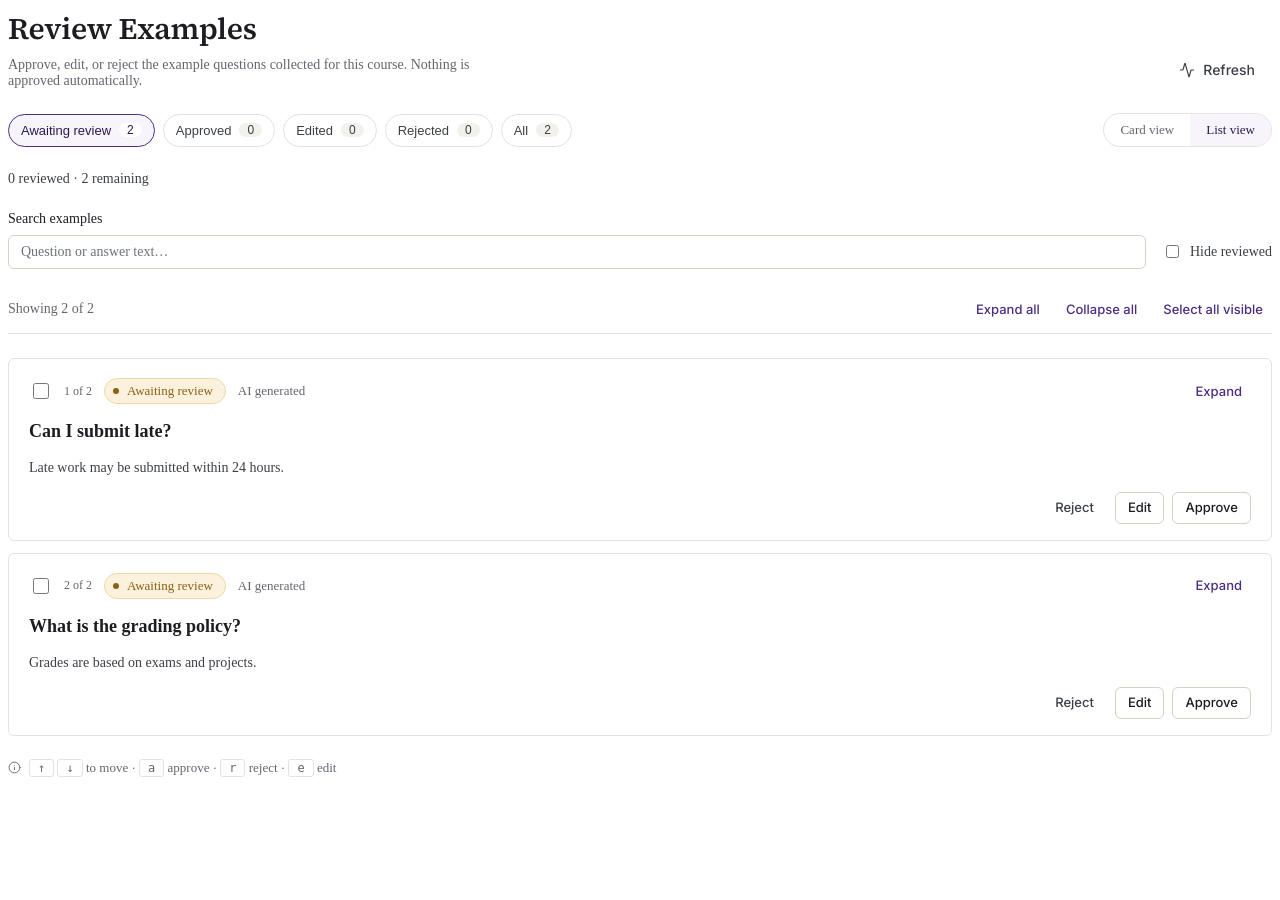
Scenario: ReviewExamplesPage › moves through the queue with the previous and next controls
Expected: the text "Can I submit late?" is shown, [29, 421, 172, 441]
Click the button "Card view" at (1147, 130), box [1104, 114, 1190, 146]
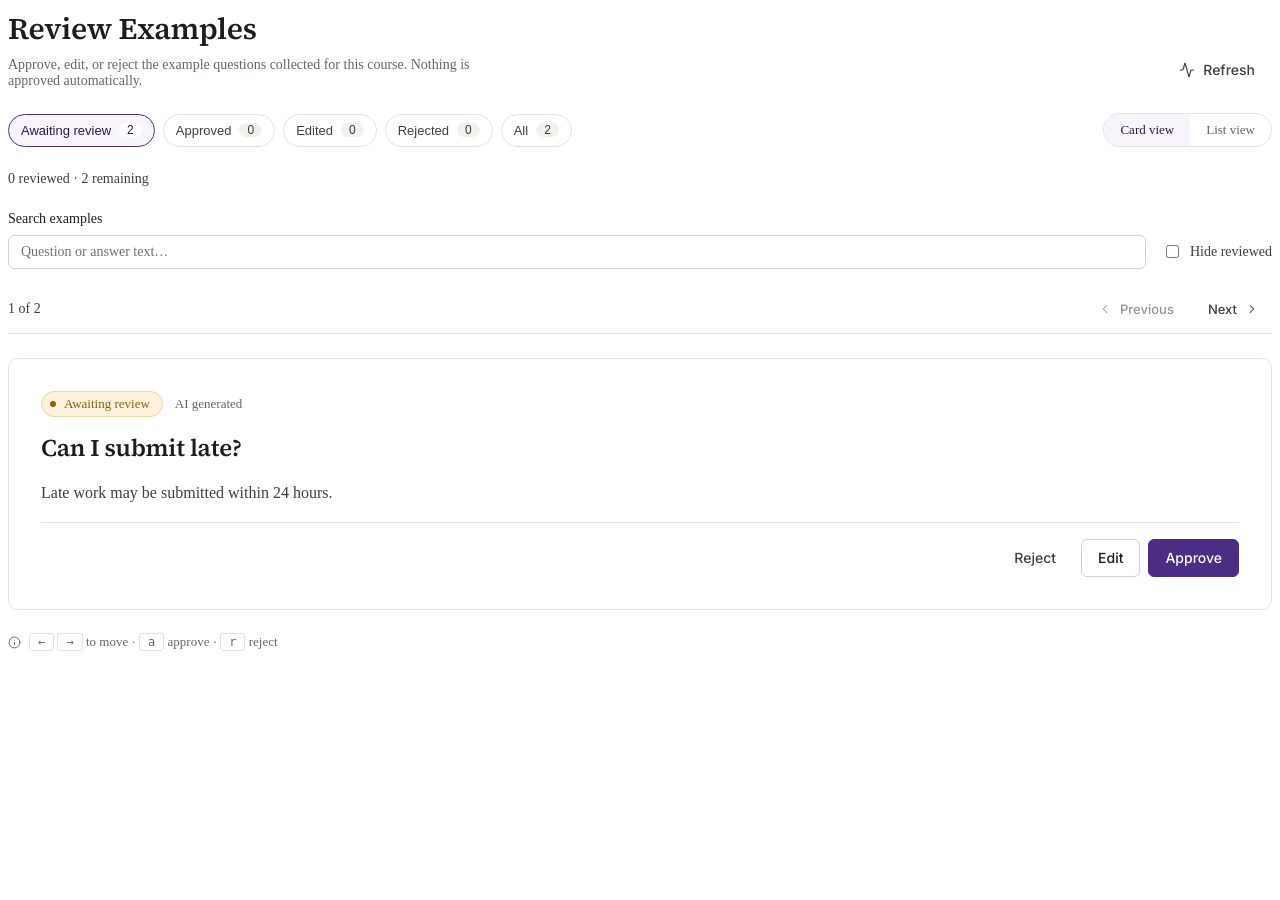
Expected: the text "1 of 2" is shown, [8, 301, 41, 317]
Expected: the button "Previous" is disabled, [1085, 293, 1187, 325]
Click the button "Next" at (1233, 309), box [1195, 293, 1272, 325]
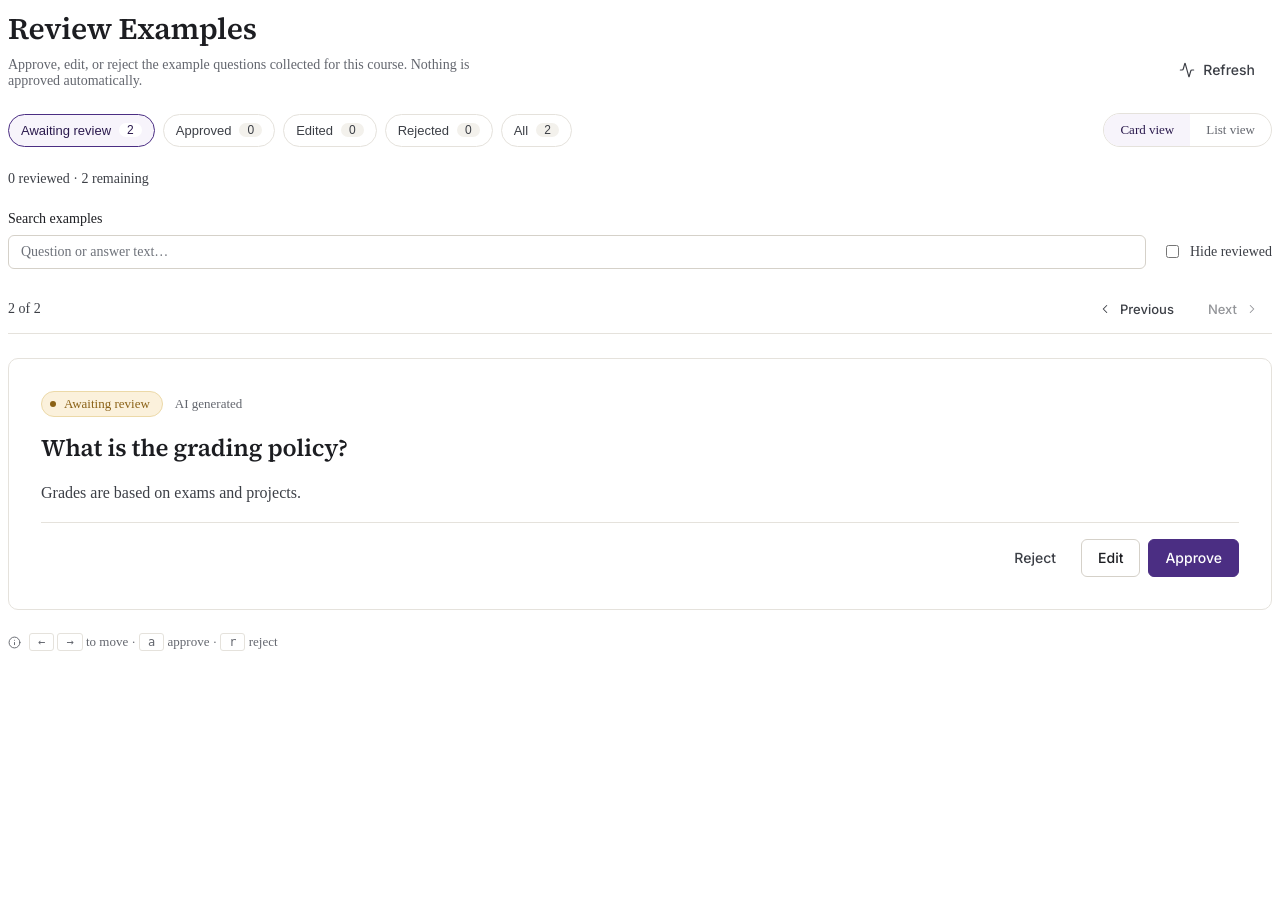
Expected: the text "2 of 2" is shown, [8, 301, 41, 317]
Expected: the heading "What is the grading policy?" is shown, [41, 431, 348, 464]
Expected: the button "Next" is disabled, [1195, 293, 1272, 325]
Click the button "Previous" at (1136, 309), box [1085, 293, 1187, 325]
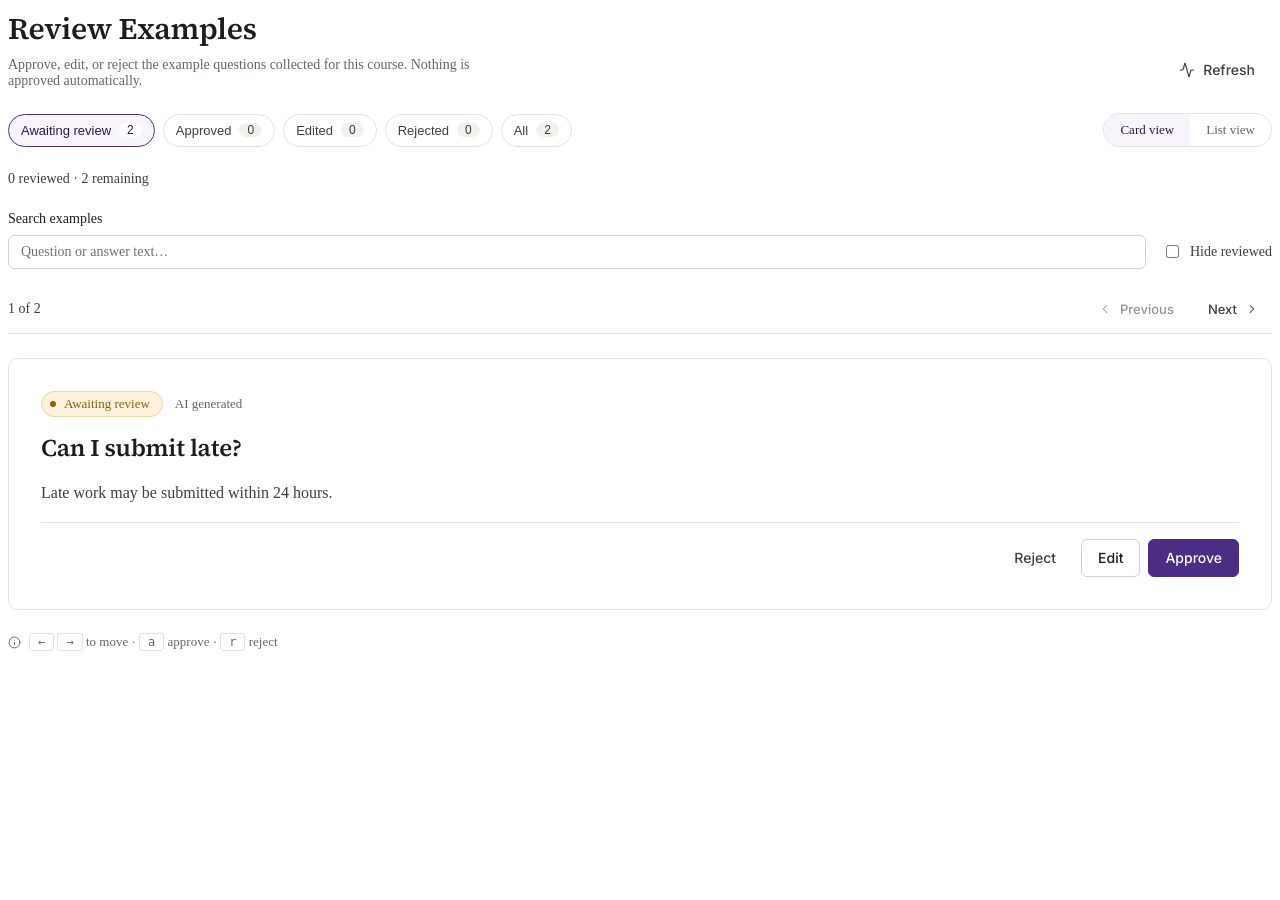
Expected: the heading "Can I submit late?" is shown, [41, 431, 242, 464]
